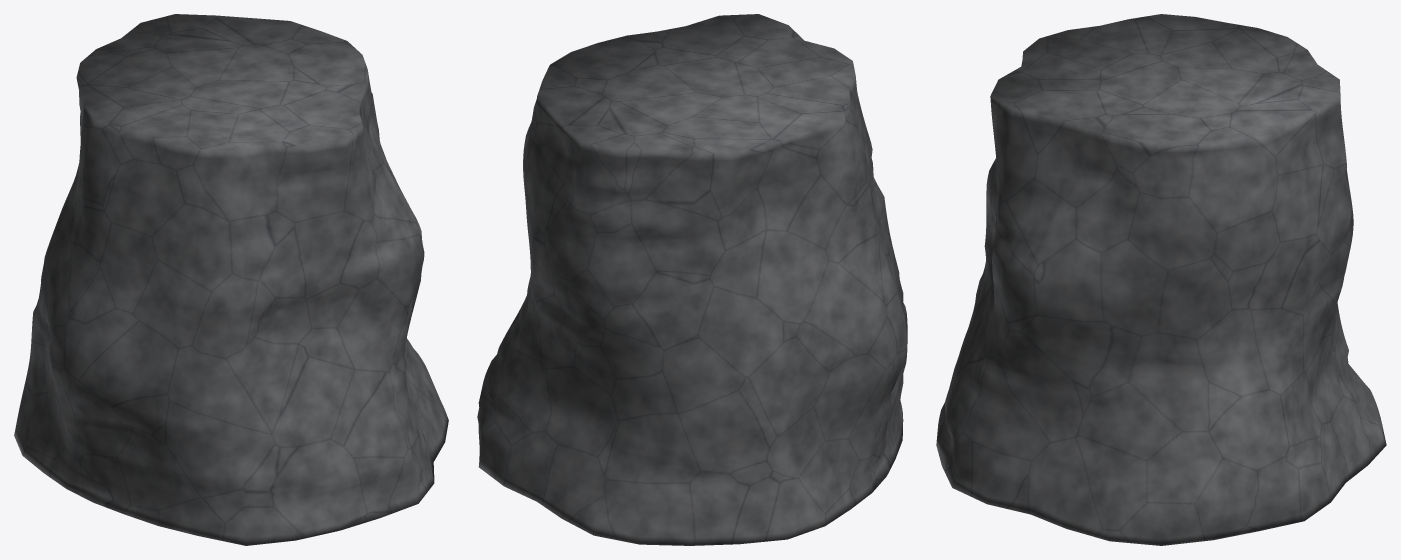
File: rock_pillar.glb
3 views of the same model, side by side, from view 1: azimuth 30°, elevation 25°; view 2: azimuth 150°, elevation 25°; view 3: azimuth 270°, elevation 25° (orthographic).
Parts seen in each view (by area): view 1: RockPillar; view 2: RockPillar; view 3: RockPillar.
Part boxes in pixels (bbox=[...]): RockPillar: bbox=[14, 14, 448, 545]; RockPillar: bbox=[477, 14, 907, 545]; RockPillar: bbox=[936, 14, 1386, 545].
Size of the model in its own units: 1.1 by 1 by 1.12.
Materials: 1 (1 with a texture image).
